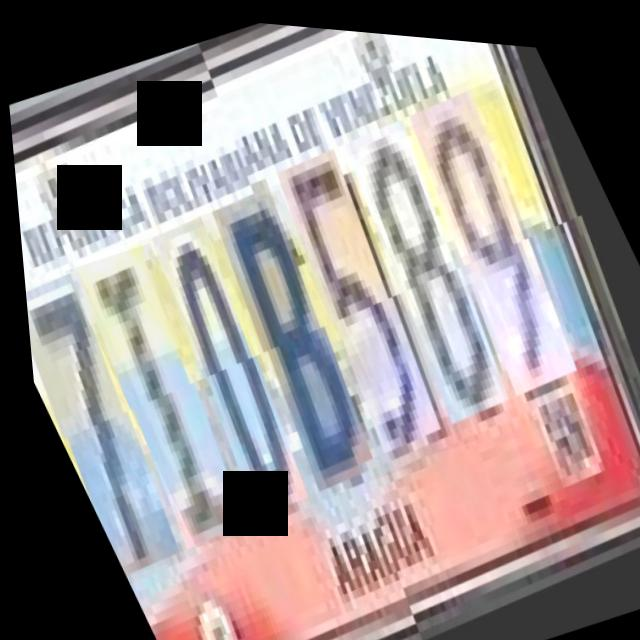5: (262, 150, 473, 464)
7: (19, 265, 205, 581)
8: (331, 120, 542, 434)
9: (396, 89, 613, 407)
B: (193, 178, 405, 494)
I: (57, 234, 273, 550)
O: (131, 209, 334, 518)
